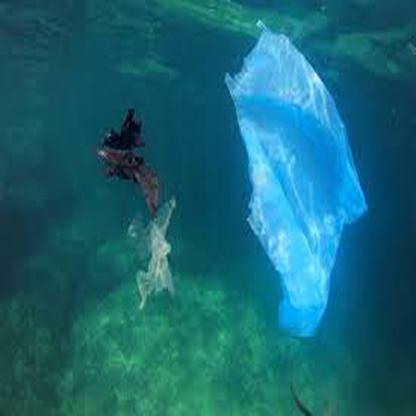plastic bag: (92, 110, 179, 317)
plastic bottle: (223, 21, 368, 336)
